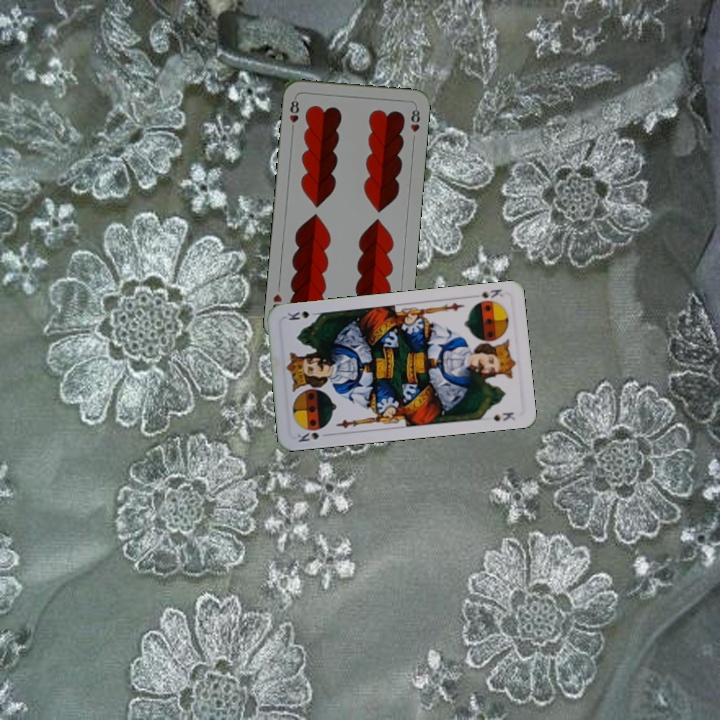H8: (285, 94, 302, 134)
SK: (471, 284, 505, 307), (293, 428, 322, 445)
